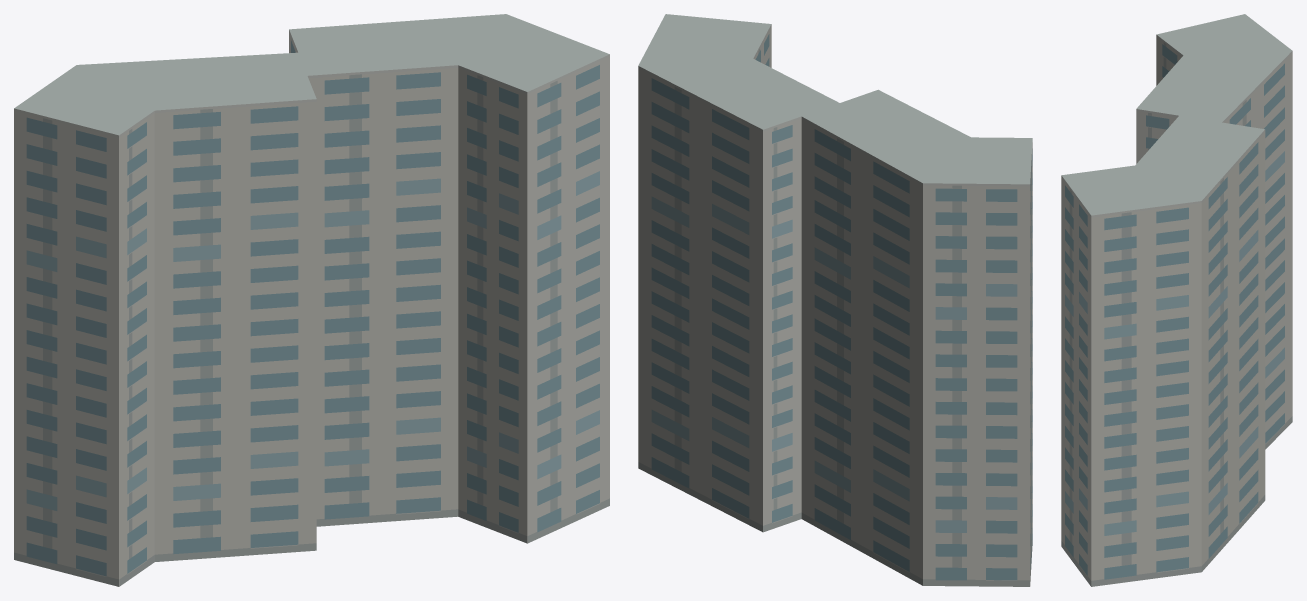
File: residential-e5a4a085-43a8-4e70-b216-2adb53ddcf46.glb
3 views of the same model, side by side, from view 1: azimuth 30°, elevation 25°; view 2: azimuth 150°, elevation 25°; view 3: azimuth 270°, elevation 25° (orthographic). The views are drawn at different scales.
Visible parts, largest first — view 1: residential-e5a4a085-43a8-4e70-b216-2adb53ddcf46.tmp; view 2: residential-e5a4a085-43a8-4e70-b216-2adb53ddcf46.tmp; view 3: residential-e5a4a085-43a8-4e70-b216-2adb53ddcf46.tmp.
Part boxes in pixels (x1,y1,x2,y2): residential-e5a4a085-43a8-4e70-b216-2adb53ddcf46.tmp: (14, 14, 609, 586); residential-e5a4a085-43a8-4e70-b216-2adb53ddcf46.tmp: (638, 14, 1032, 586); residential-e5a4a085-43a8-4e70-b216-2adb53ddcf46.tmp: (1061, 14, 1292, 586).
Bounding box in the file's own units: 54.73 × 47 × 26.53.
